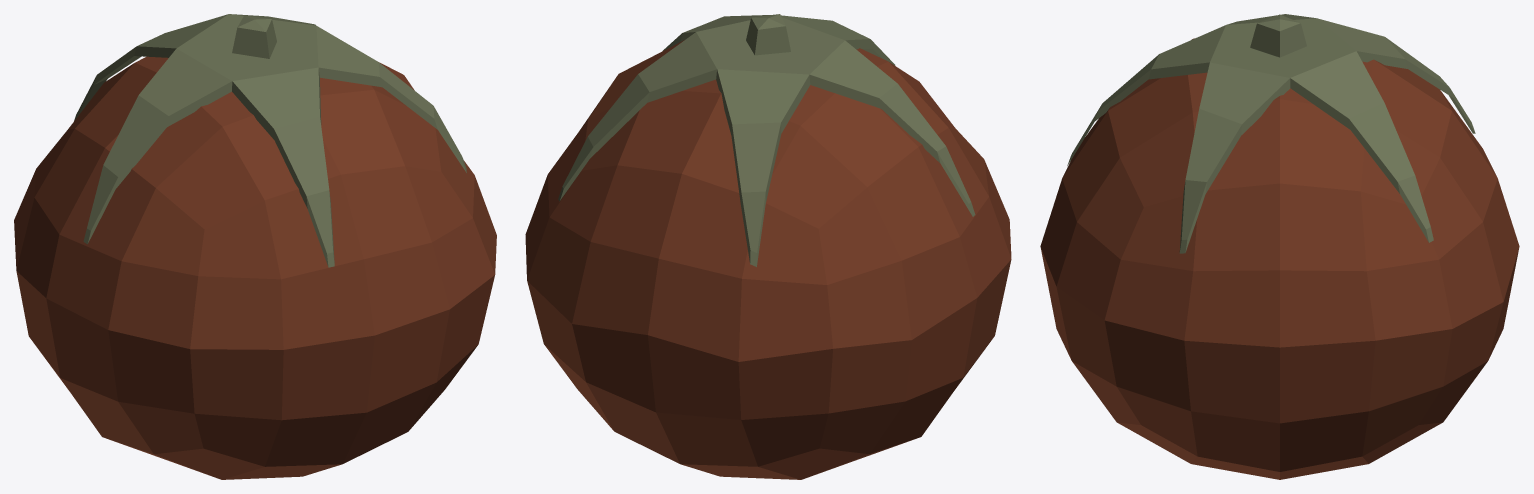
File: tomato.glb
3 renders of one model, left to right at view 1: azimuth 30°, elevation 25°; view 2: azimuth 150°, elevation 25°; view 3: azimuth 270°, elevation 25°, orthographic.
Visible parts, largest first — view 1: Tomato_Crop; view 2: Tomato_Crop; view 3: Tomato_Crop.
Part boxes in pixels (x1=…): Tomato_Crop: x1=14, y1=14, x2=496, y2=479; Tomato_Crop: x1=525, y1=14, x2=1011, y2=479; Tomato_Crop: x1=1040, y1=14, x2=1519, y2=479.
Bounding box in the file's own units: 0.3 × 0.3 × 0.3.
